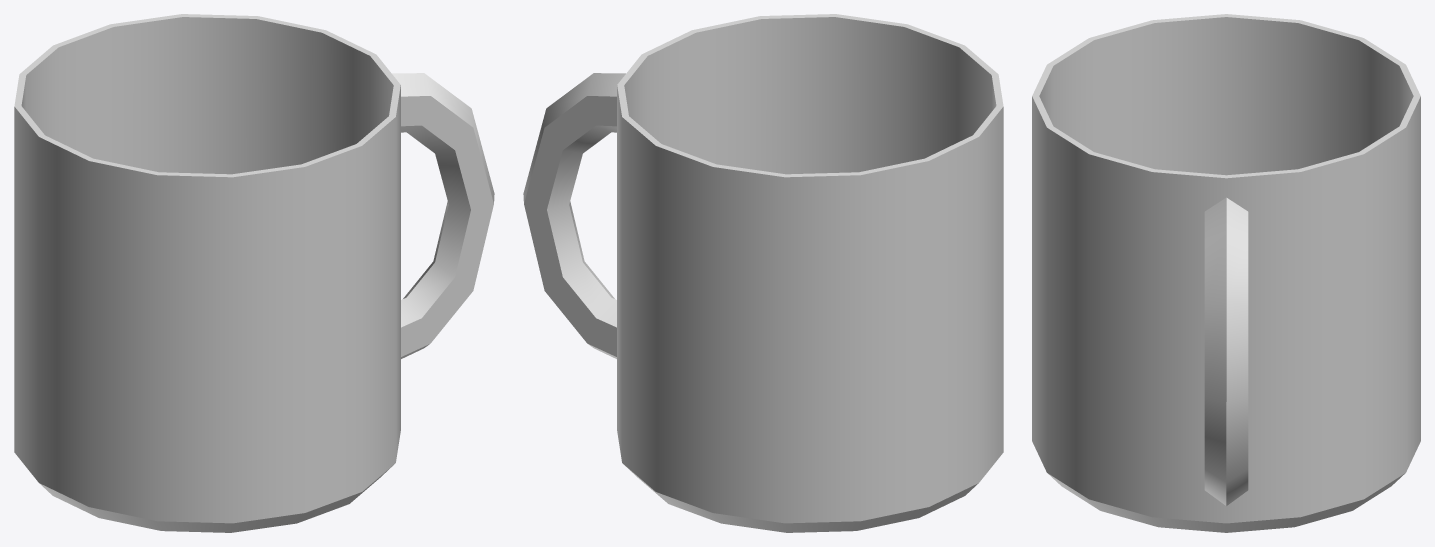
The model's file is Taza01.fbx.
3 views of the same model, side by side, from view 1: azimuth 30°, elevation 25°; view 2: azimuth 150°, elevation 25°; view 3: azimuth 270°, elevation 25° (orthographic).
Visible parts, largest first — view 1: Taza01; view 2: Taza01; view 3: Taza01.
Boxes of the visible parts, left/top/right/bottom form: Taza01: left=14, top=14, right=494, bottom=532; Taza01: left=523, top=14, right=1003, bottom=532; Taza01: left=1032, top=14, right=1420, bottom=532.
Bounding box in the file's own units: 17.78 × 13.51 × 13.17.
